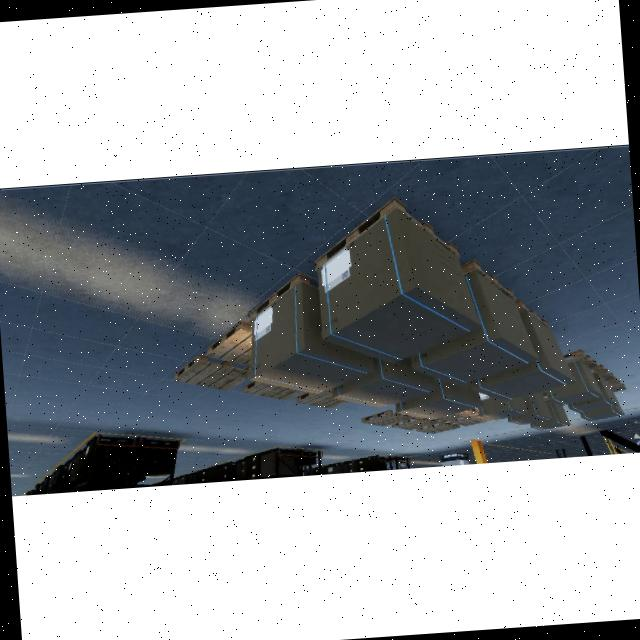wooden_pallet: (314, 197, 460, 270), (248, 273, 318, 322)
